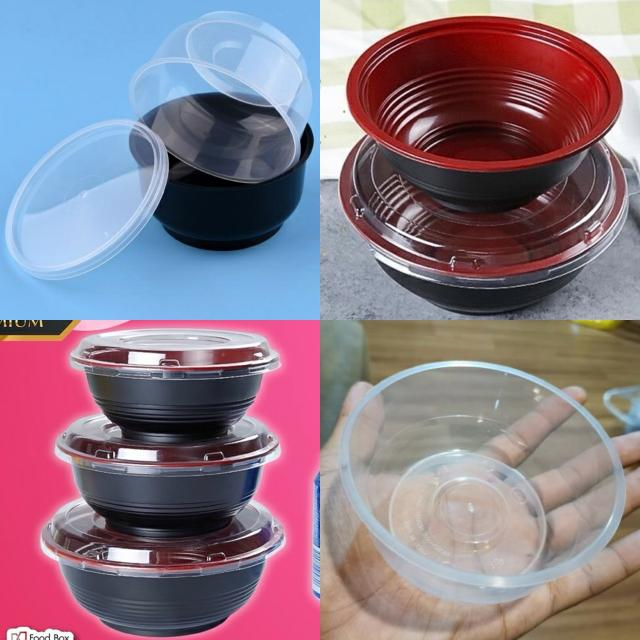Single-Use-Plastic: (339, 361, 625, 604), (346, 16, 622, 212), (339, 136, 629, 314), (41, 499, 285, 636), (130, 11, 311, 183), (55, 414, 280, 536), (5, 120, 169, 279), (70, 328, 279, 438), (154, 125, 314, 251)
